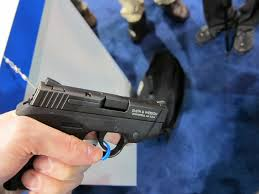gun: (14, 75, 171, 169)
